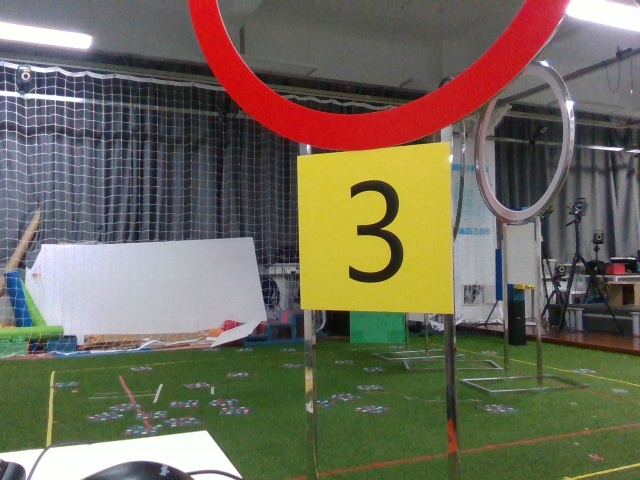target: (297, 155, 448, 310)
